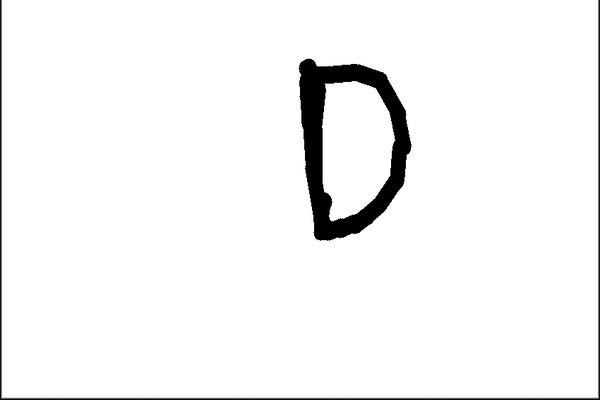D: (290, 50, 418, 245)
